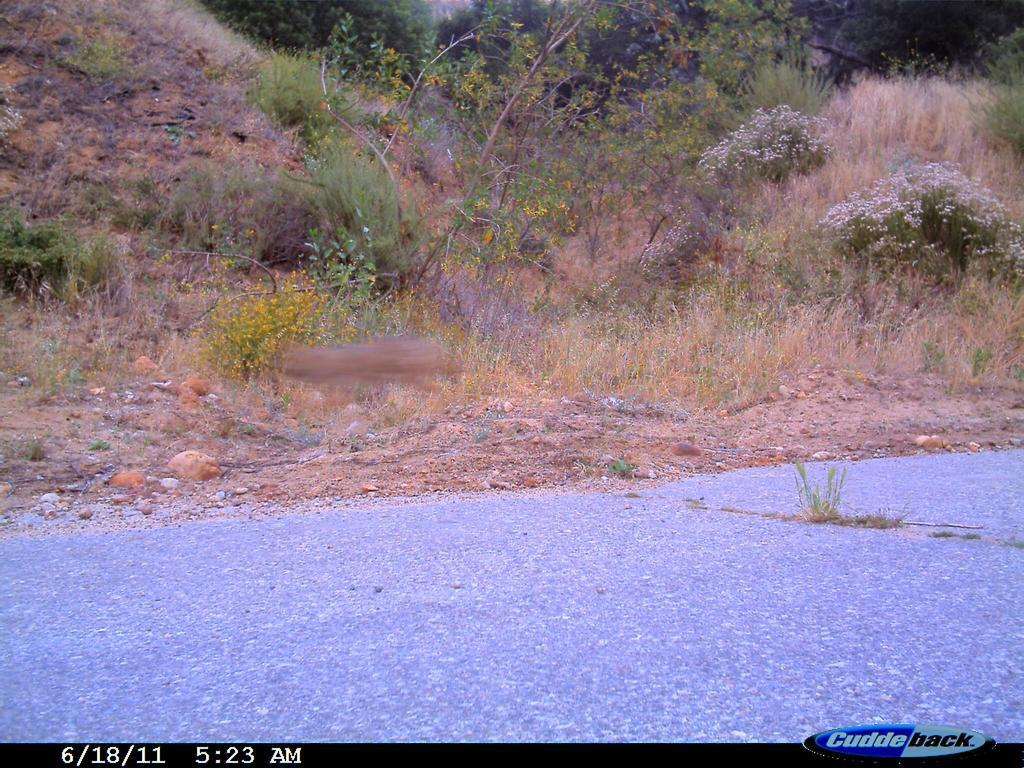coyote: (262, 318, 477, 420)
